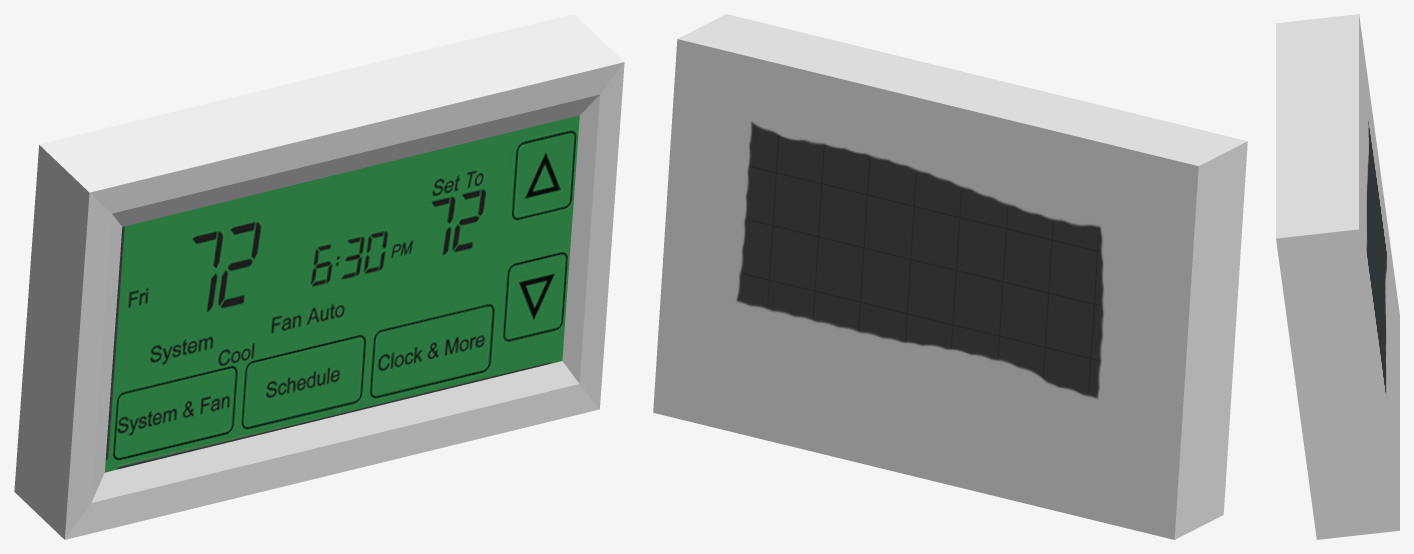
File: Thermostat.obj
The picture shows the model from 3 angles, left to right: view 1: azimuth 30°, elevation 25°; view 2: azimuth 150°, elevation 25°; view 3: azimuth 270°, elevation 25°; orthographic projection. The views are drawn at different scales.
Visible parts, largest first — view 1: Thermostat; view 2: Thermostat; view 3: Thermostat.
Part boxes in pixels (bbox=[...]): Thermostat: bbox=[14, 14, 624, 539]; Thermostat: bbox=[653, 14, 1247, 539]; Thermostat: bbox=[1276, 14, 1399, 539].
Bounding box in the file's own units: 0.1159 × 0.078 × 0.0282.
